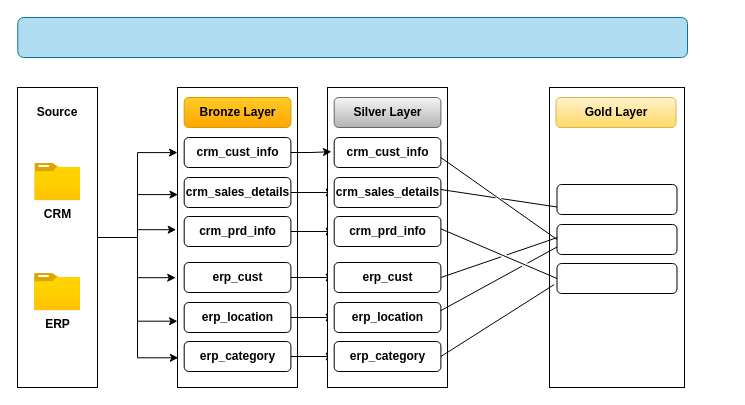
This 745x405 diagram has some shape labels left out. The shapes that lost their labels are listed below. From the top down, each one's box as (x1, y1, x2, y2) in pixels, then its label:
(17, 16, 688, 58): Data Flow
(556, 184, 677, 214): fact_sales
(556, 224, 677, 254): dim_customers
(556, 262, 677, 294): dim_products
